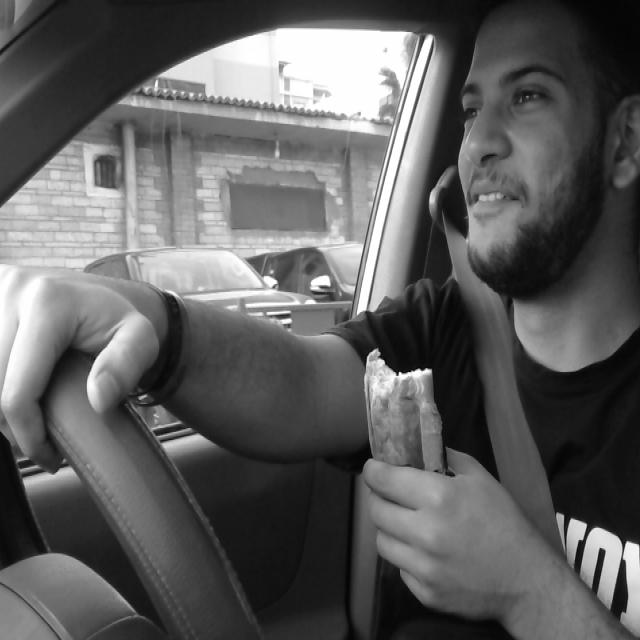eating: (362, 352, 448, 552)
